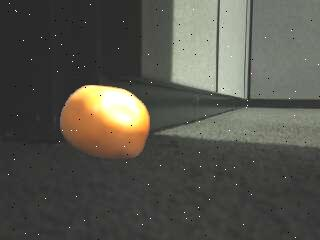Potato: (59, 85, 150, 162)
